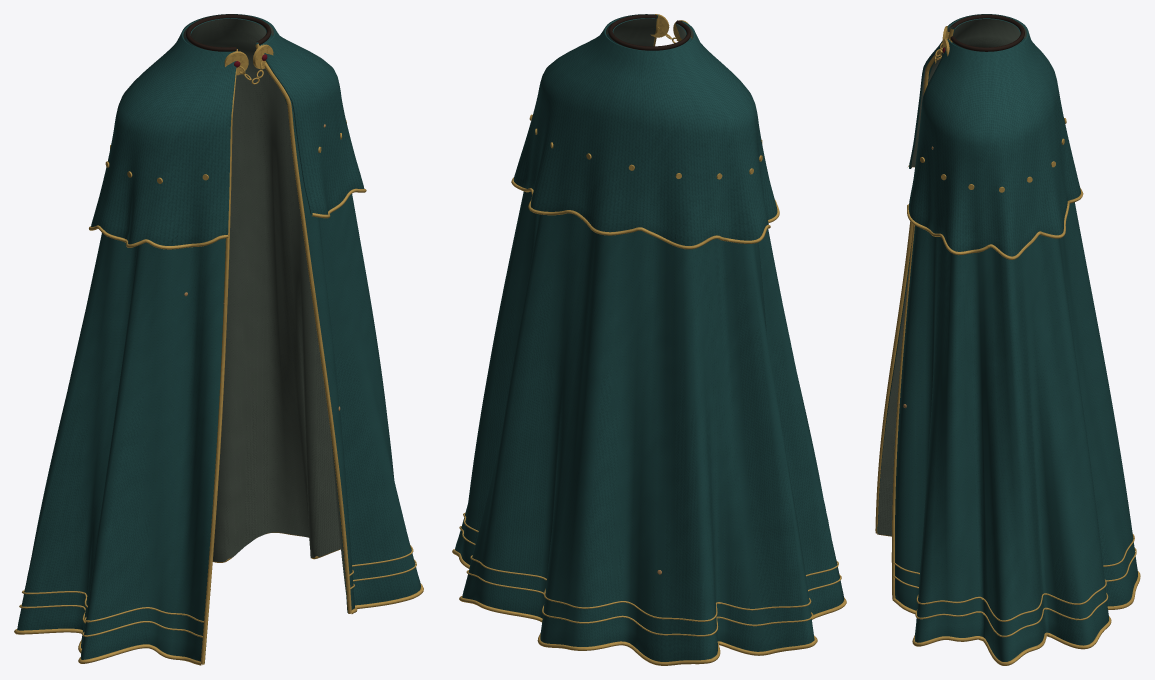
The picture shows the model from 3 angles, left to right: view 1: azimuth 30°, elevation 25°; view 2: azimuth 150°, elevation 25°; view 3: azimuth 270°, elevation 25°; orthographic projection. The views are drawn at different scales.
Parts seen in each view (by area): view 1: woven wool, brushed wool lining, gilded alloy, oiled strap leather; view 2: woven wool, gilded alloy, brushed wool lining, oiled strap leather; view 3: woven wool, gilded alloy, brushed wool lining, oiled strap leather.
Part boxes in pixels (x1,y1,x2,y2): woven wool: (17, 14, 420, 662); brushed wool lining: (183, 18, 346, 594); gilded alloy: (14, 44, 423, 665); oiled strap leather: (186, 14, 271, 51); woven wool: (455, 14, 844, 661); gilded alloy: (452, 14, 846, 665); brushed wool lining: (606, 16, 693, 46); oiled strap leather: (608, 14, 690, 50); woven wool: (877, 14, 1137, 661); gilded alloy: (875, 26, 1140, 665); brushed wool lining: (877, 19, 1026, 535); oiled strap leather: (950, 14, 1024, 51).
Size of the model in its own units: 0.8507 by 1.25 by 0.5367.
Materials: 6 (5 with a texture image).
